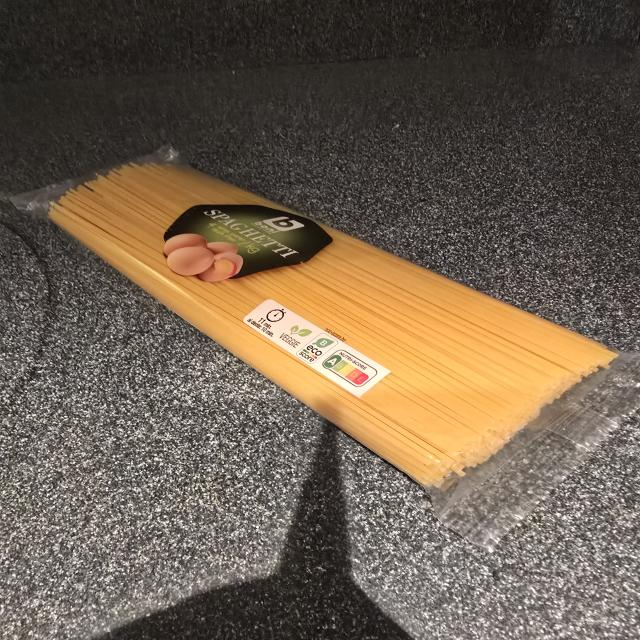Pasta: (49, 163, 617, 486)
